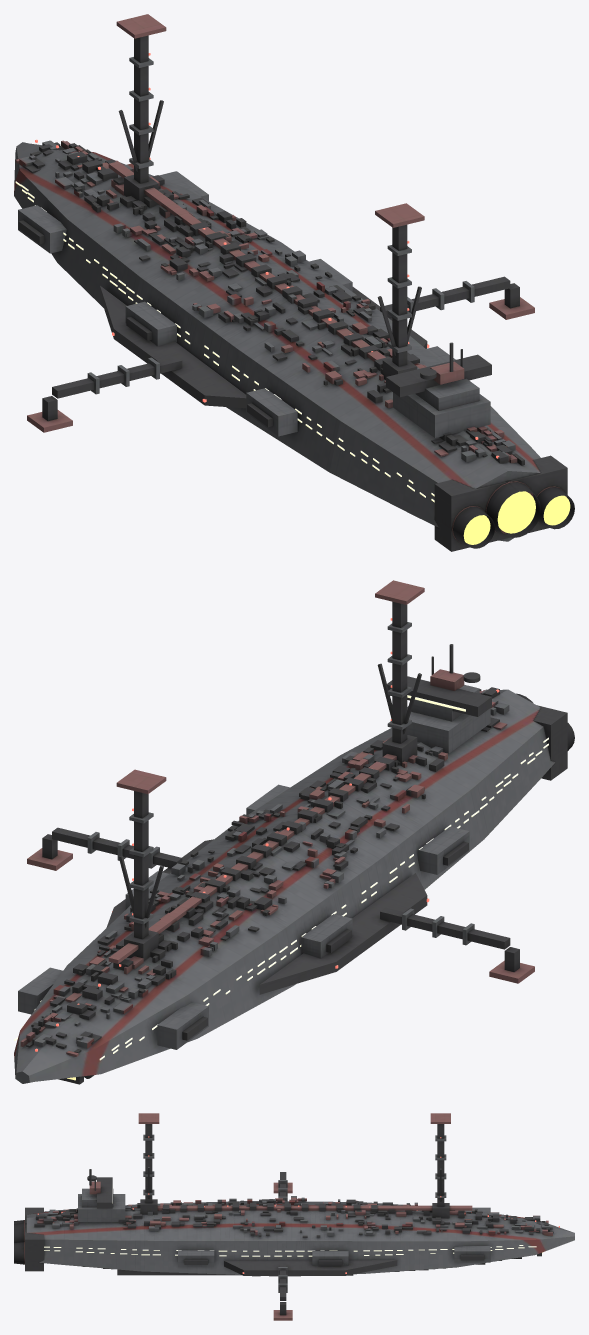
File: leviathan.glb
3 renders of one model, top to bottom at view 1: azimuth 30°, elevation 25°; view 2: azimuth 150°, elevation 25°; view 3: azimuth 270°, elevation 25°, orthographic. The views are drawn at different scales.
Visible parts, largest first — view 1: Leviathan_Mid, Leviathan_Stern, Leviathan_Bow, Leviathan_Engines, Leviathan_Windows; view 2: Leviathan_Mid, Leviathan_Bow, Leviathan_Stern, Leviathan_Windows; view 3: Leviathan_Mid, Leviathan_Bow, Leviathan_Stern, Leviathan_Windows.
Boxes of the visible parts, x1,y1,x2,y2 form: Leviathan_Mid: (27, 161, 534, 471); Leviathan_Stern: (268, 203, 574, 551); Leviathan_Bow: (14, 14, 281, 307); Leviathan_Engines: (463, 491, 570, 544); Leviathan_Windows: (15, 181, 434, 502); Leviathan_Mid: (27, 752, 534, 994); Leviathan_Bow: (14, 769, 293, 1084); Leviathan_Stern: (330, 580, 574, 838); Leviathan_Windows: (14, 695, 548, 1060); Leviathan_Mid: (141, 1172, 472, 1320); Leviathan_Bow: (362, 1113, 574, 1273); Leviathan_Stern: (14, 1113, 241, 1275); Leviathan_Windows: (44, 1184, 536, 1256).
Bounding box in the file's own units: 406 × 220 × 711.
Materials: 5 (1 with a texture image).
